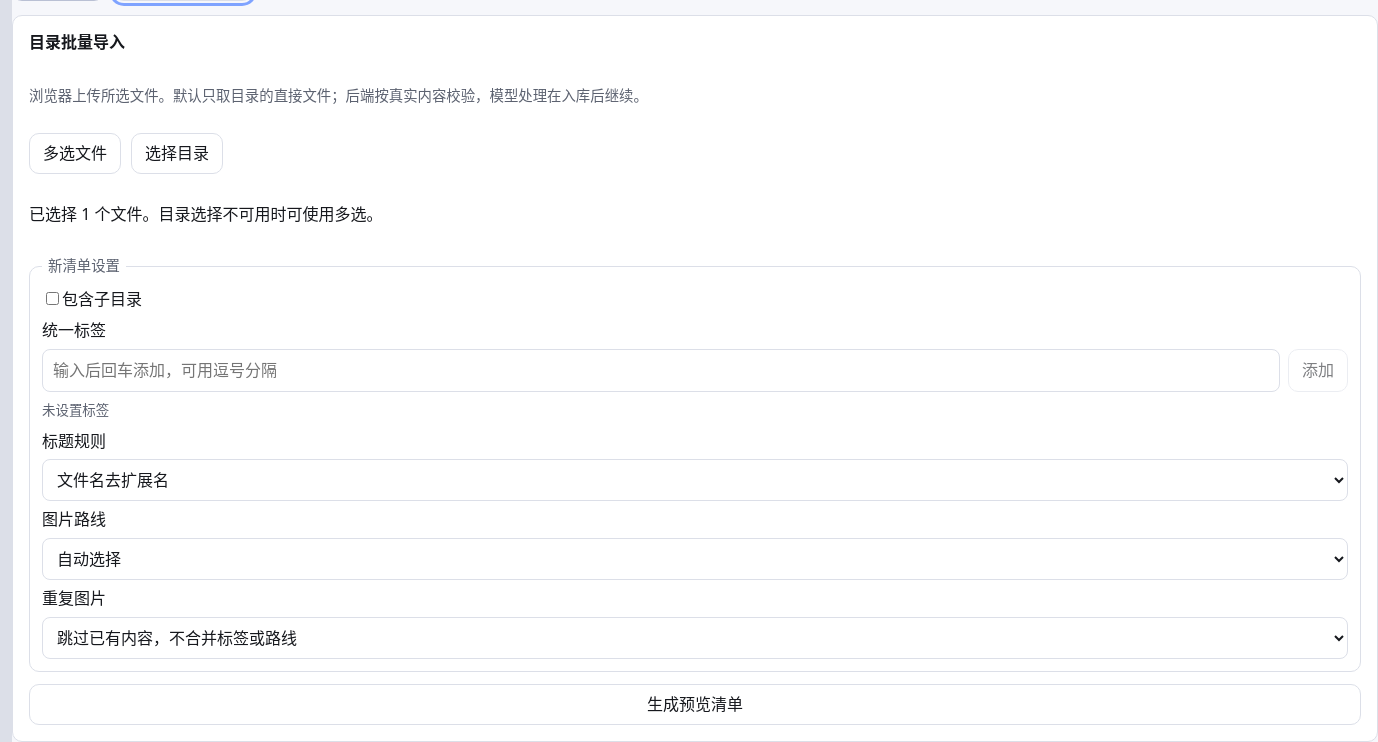
Test: previews a batch and uploads each file using the durable protocol
The image size is (1378, 742).
Earlier steps of the test are not shown.
(page scrolled)
Click the button "生成预览清单" at coordinates (695, 704), box [29, 684, 1361, 725]
(page scrolled)
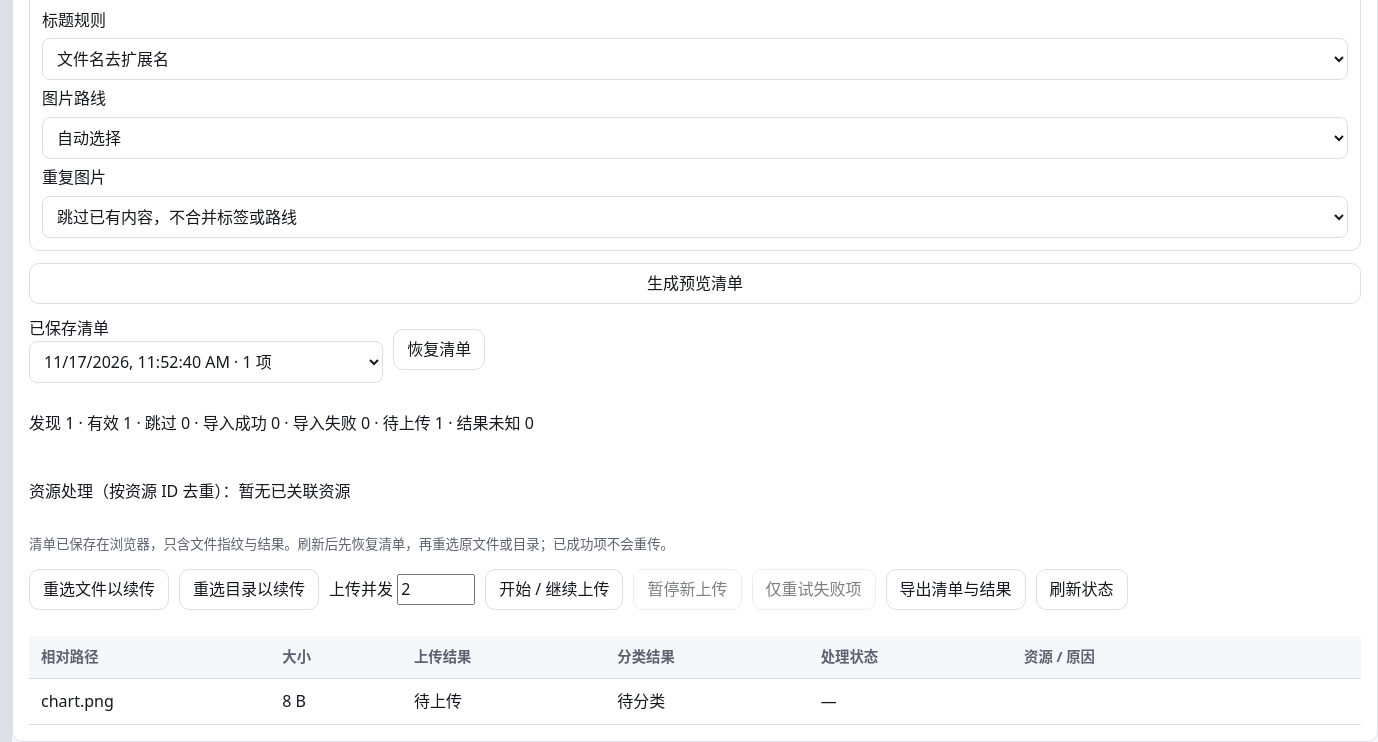
Expected: the cell "chart.png" is shown, [29, 679, 270, 724]
Expected: the column heading "分类结果" is shown, [605, 636, 809, 679]
Expected: the cell "待分类" is shown, [605, 679, 809, 724]
Click the button "开始 / 继续上传" at coordinates (554, 589), box [485, 569, 624, 610]
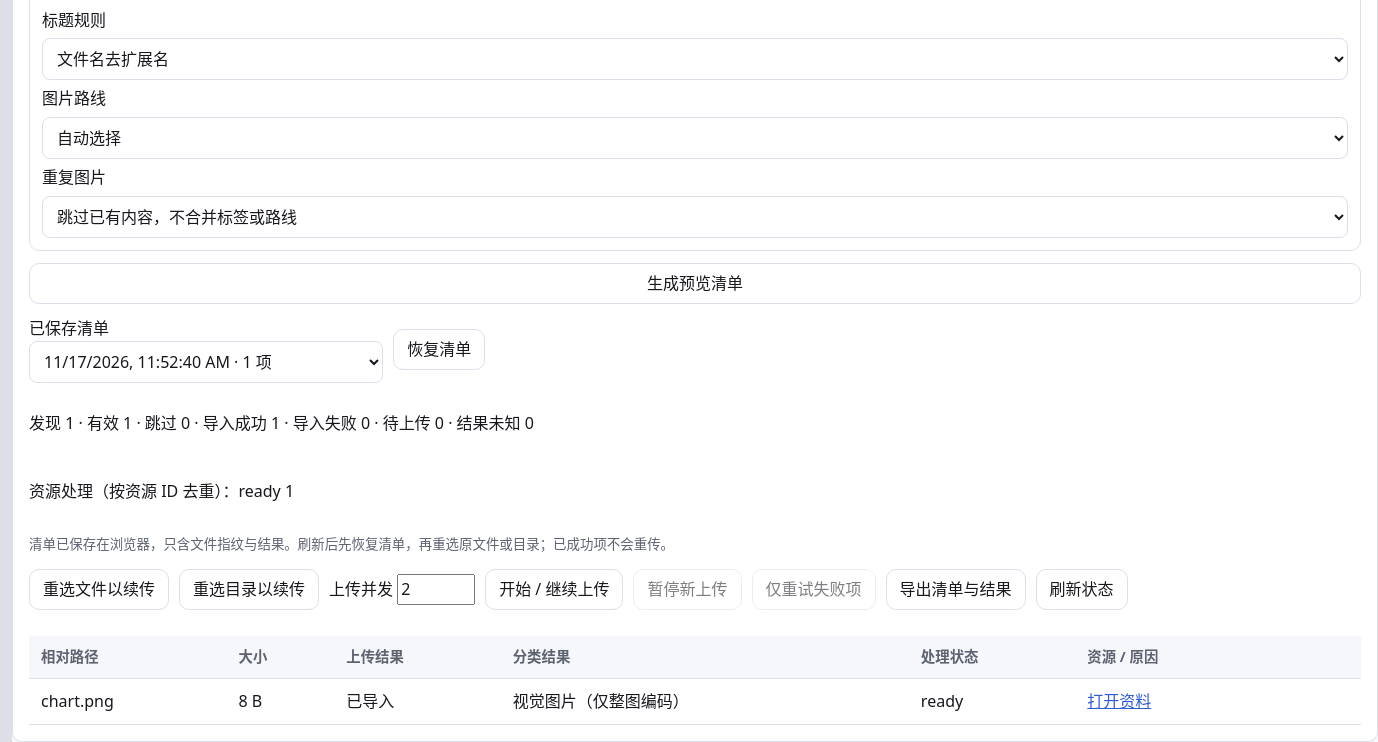
Expected: the cell "已导入" is shown, [334, 679, 501, 724]
Expected: the cell "视觉图片（仅整图编码）" is shown, [501, 679, 909, 724]
